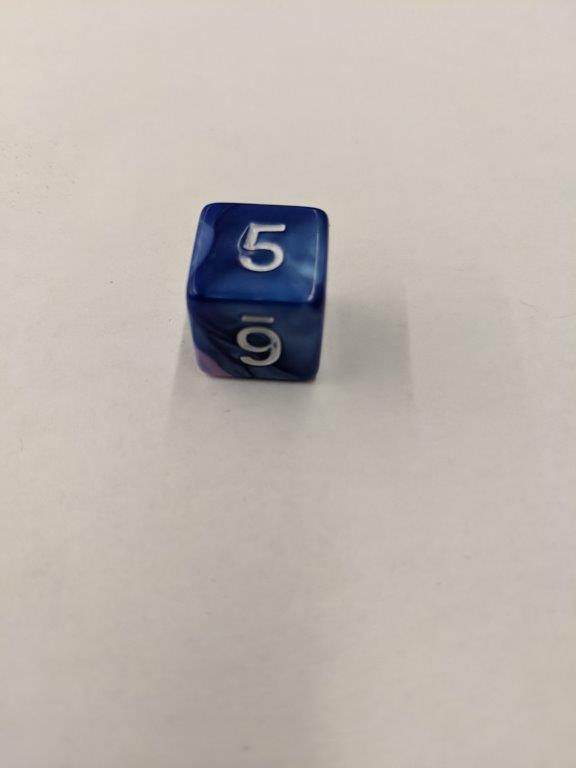d6-5: (182, 200, 329, 386)
